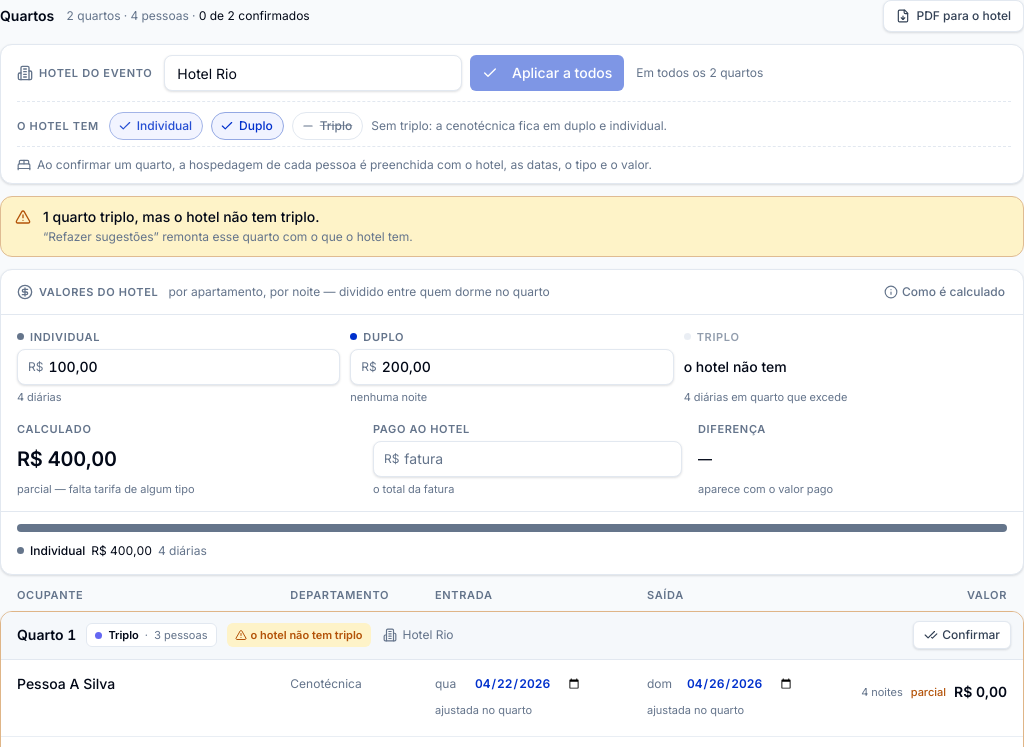
valores e PDF com o tipo que o hotel não tem › PDF: avisa quando o documento tem quarto de um tipo que o hotel não tem
This screenshot has width=1024, height=747.
What coordinates should you click on to do the following:
click the button with test id "quartos-pdf-hotel"
I would click on:
 (954, 16)
Its box is left=884, top=0, right=1023, bottom=32.
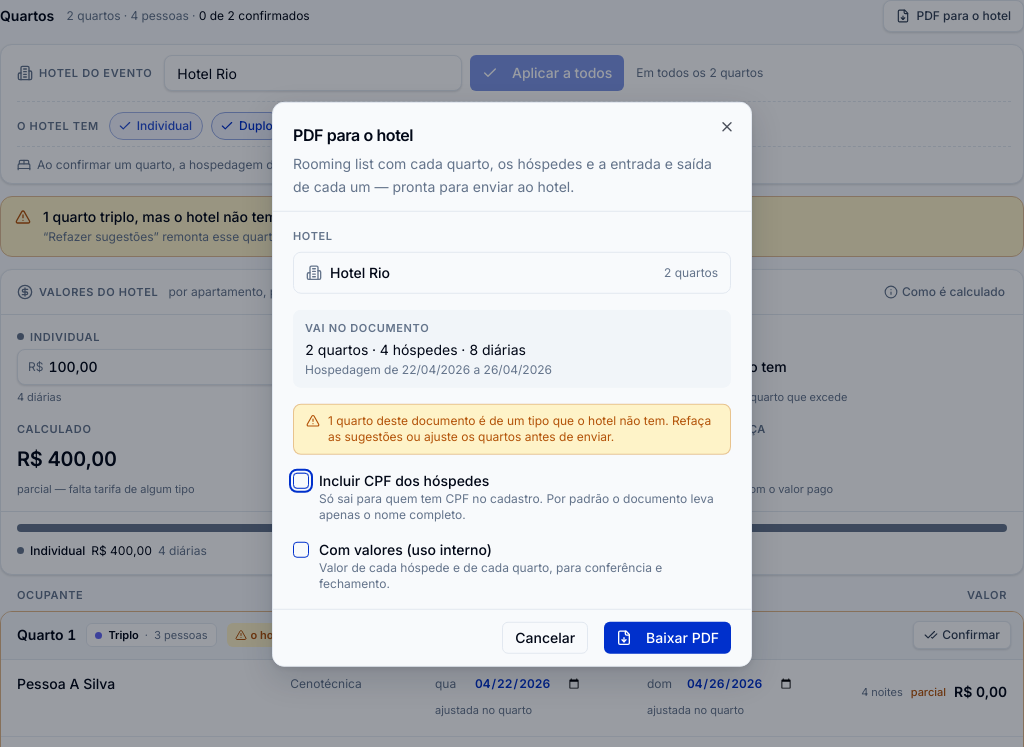
Check: the element with test id "rooming-aviso-excede" shows "1 quarto deste documento é de um tipo que o hotel não tem.", box left=293, top=403, right=731, bottom=454
